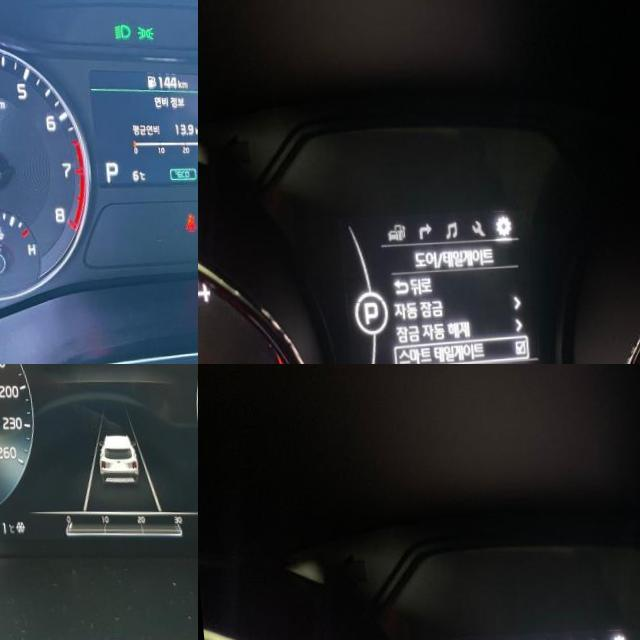Low beam: (109, 23, 127, 41)
SideLamp: (131, 25, 151, 42)
